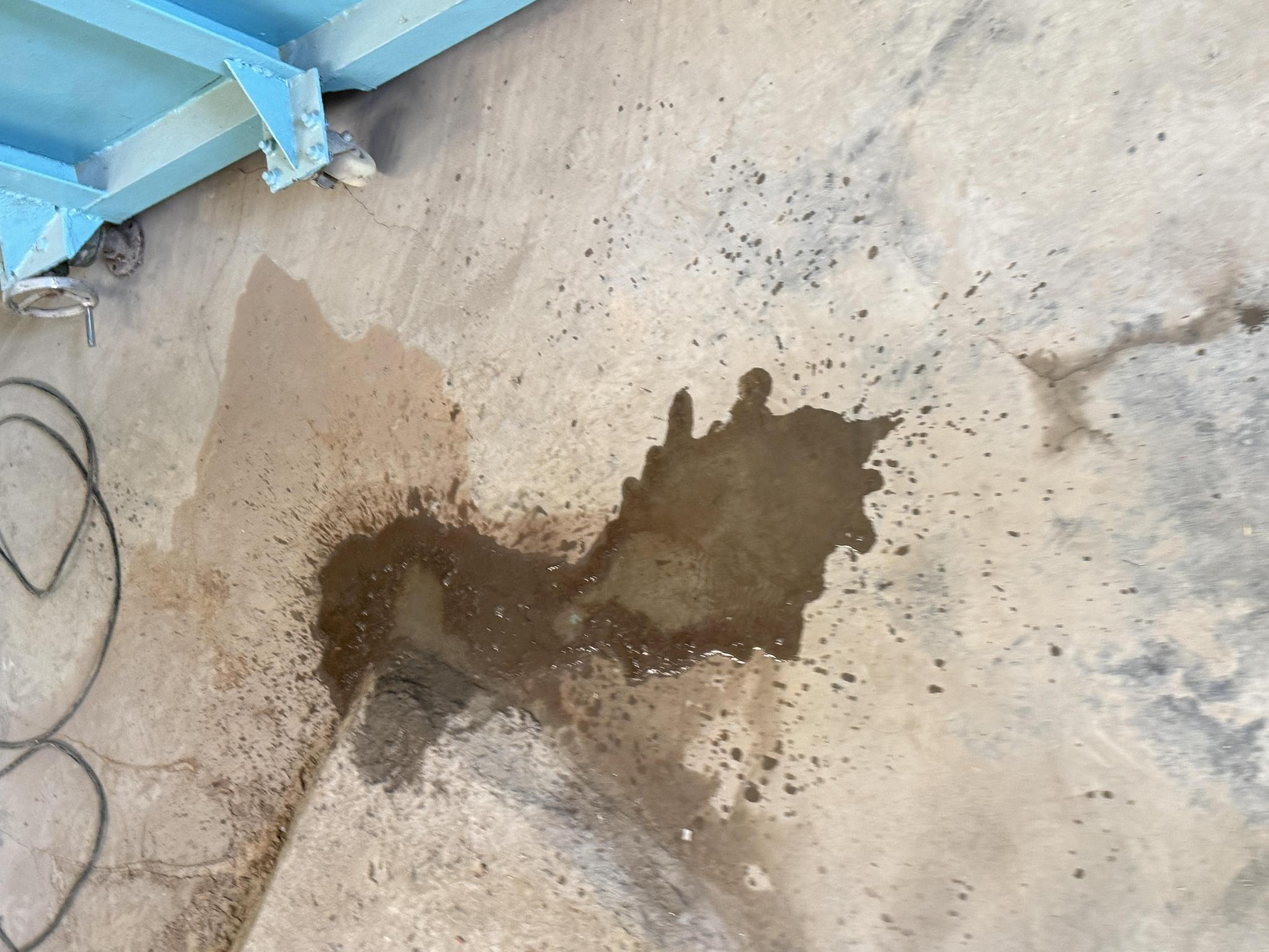water accumulation: (310, 363, 895, 714)
